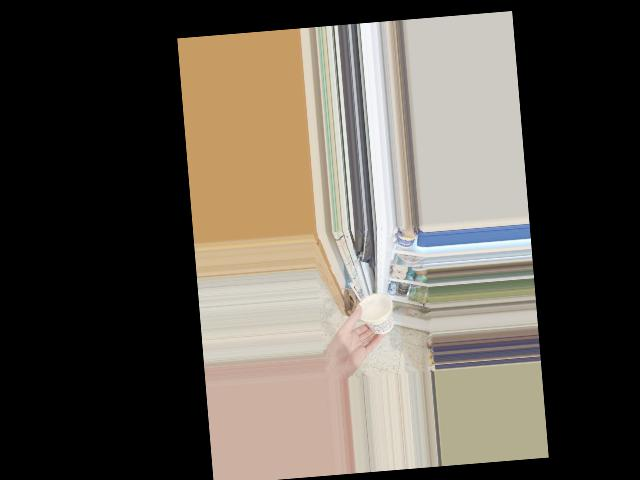cotage: (356, 297, 392, 334)
